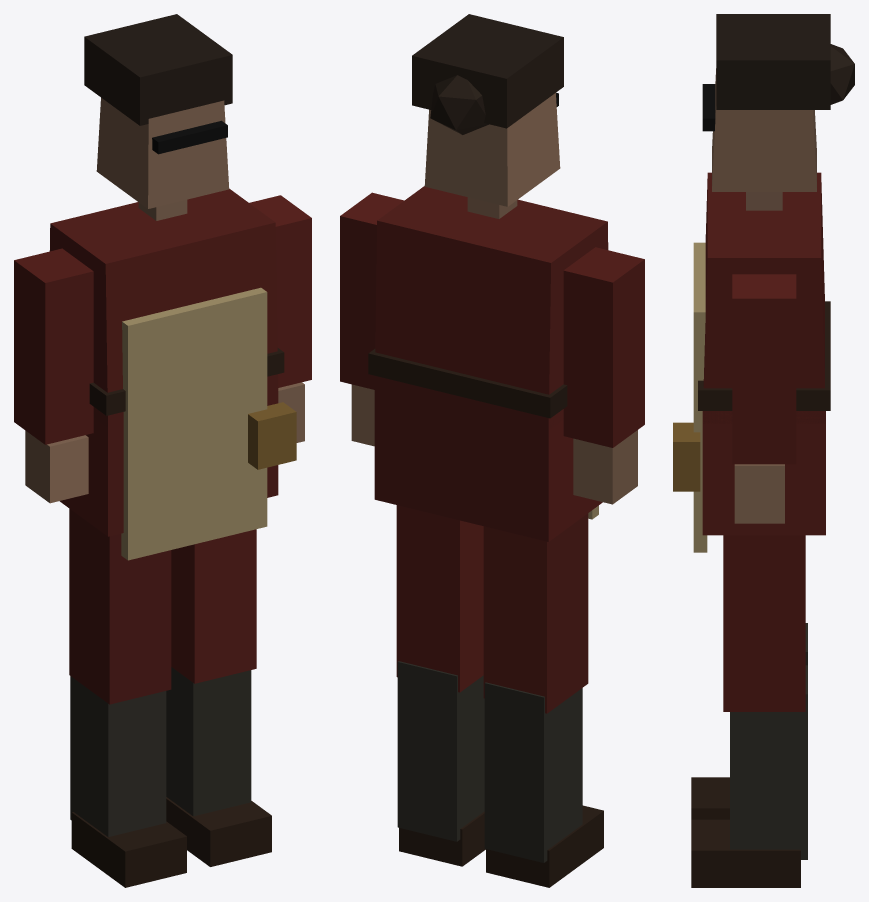
File: innkeeper.glb
The picture shows the model from 3 angles, left to right: view 1: azimuth 30°, elevation 25°; view 2: azimuth 150°, elevation 25°; view 3: azimuth 270°, elevation 25°; orthographic projection. The views are drawn at different scales.
Visible parts, largest first — view 1: Torso, Leg_R, Leg_L, Head, Arm_R, Arm_L; view 2: Torso, Leg_R, Leg_L, Head, Arm_R, Arm_L; view 3: Torso, Leg_L, Head, Arm_L, Leg_R.
Boxes of the visible parts, box(x1,y1,x2,y2) form: Torso: box(49, 189, 296, 560); Leg_R: box(69, 508, 186, 887); Leg_L: box(166, 529, 271, 866); Head: box(84, 14, 232, 220); Arm_R: box(14, 248, 93, 503); Arm_L: box(249, 195, 311, 442); Torso: box(368, 186, 608, 541); Leg_R: box(483, 513, 603, 887); Leg_L: box(396, 505, 485, 866); Head: box(412, 14, 563, 218); Arm_R: box(563, 247, 644, 504); Arm_L: box(340, 192, 403, 446); Torso: box(673, 172, 830, 552); Leg_L: box(691, 535, 807, 887); Head: box(702, 14, 854, 210); Arm_L: box(732, 274, 796, 523); Leg_R: box(691, 623, 807, 819).
Size of the model in its own units: 0.69 by 1.97 by 0.3981.
